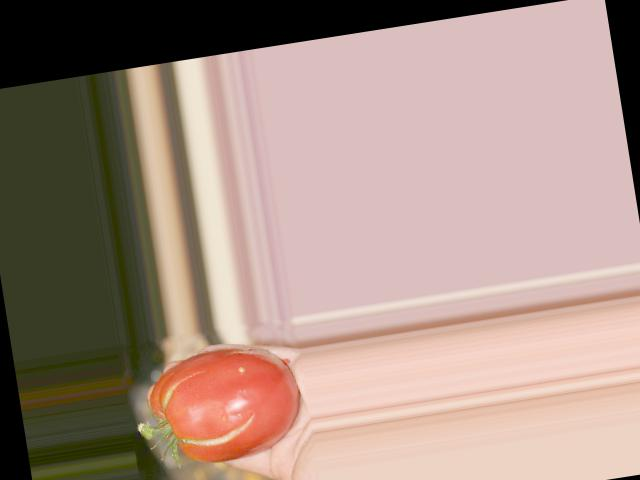tomato: (142, 337, 307, 469)
